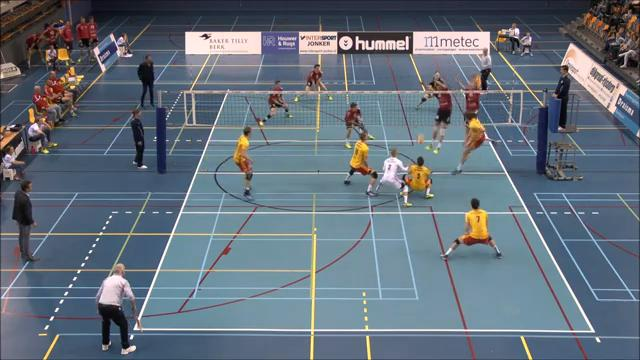Attack: (451, 108, 488, 176)
Block: (422, 75, 452, 154), (456, 72, 485, 117)
Player: (441, 198, 501, 259), (375, 149, 411, 206), (344, 133, 377, 195), (259, 80, 291, 125), (233, 126, 252, 200), (344, 102, 374, 148), (403, 156, 434, 198), (416, 71, 443, 108), (305, 64, 327, 92)
ball: (415, 132, 424, 145)
